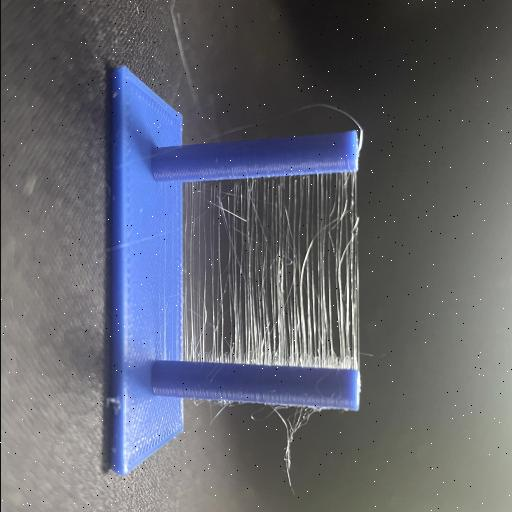stringing: (181, 173, 360, 369), (261, 404, 332, 499)
